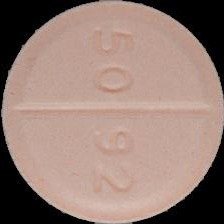43063-097: (0, 0, 224, 224)
